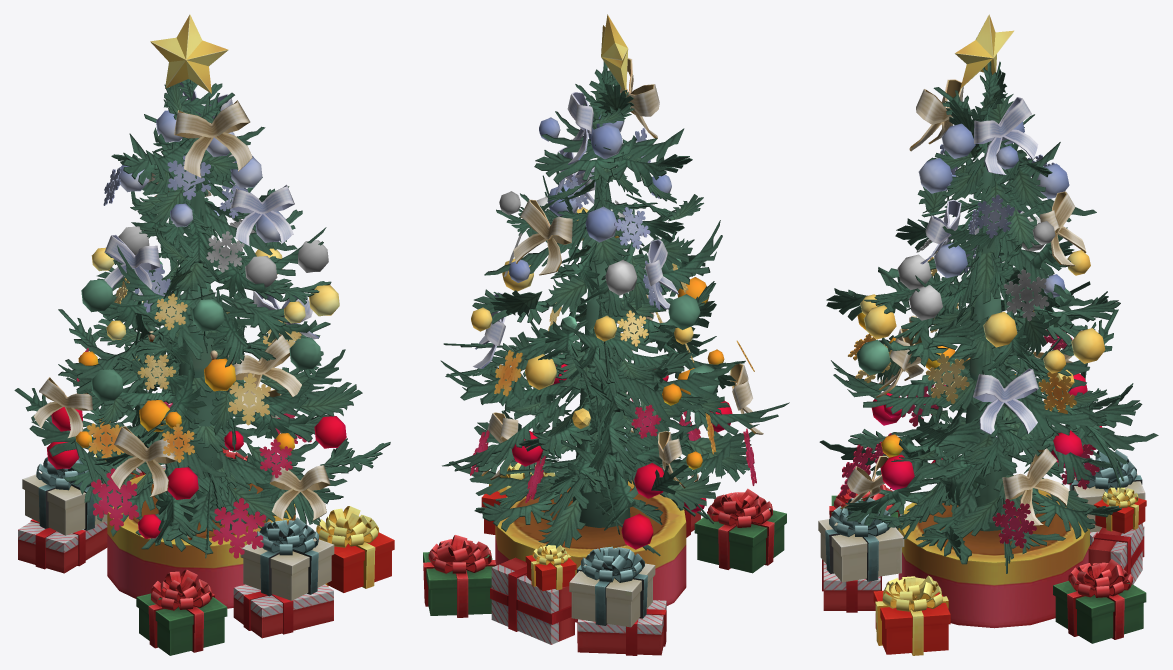
Rendered from my_event03_christmastree.glb.
3 views of the same model, side by side, from view 1: azimuth 30°, elevation 25°; view 2: azimuth 150°, elevation 25°; view 3: azimuth 270°, elevation 25° (orthographic).
Parts seen in each view (by area): view 1: my_event03_christmastree, my_event03_christmastree_star; view 2: my_event03_christmastree, my_event03_christmastree_star; view 3: my_event03_christmastree, my_event03_christmastree_star.
Part boxes in pixels (bbox=[...]): my_event03_christmastree: bbox=[14, 79, 394, 655]; my_event03_christmastree_star: bbox=[150, 14, 228, 93]; my_event03_christmastree: bbox=[423, 57, 789, 655]; my_event03_christmastree_star: bbox=[601, 14, 628, 94]; my_event03_christmastree: bbox=[818, 61, 1158, 655]; my_event03_christmastree_star: bbox=[955, 14, 1014, 88].
Size of the model in its own units: 0.0109 by 0.0201 by 0.0109.
5 materials, 5 textured.
